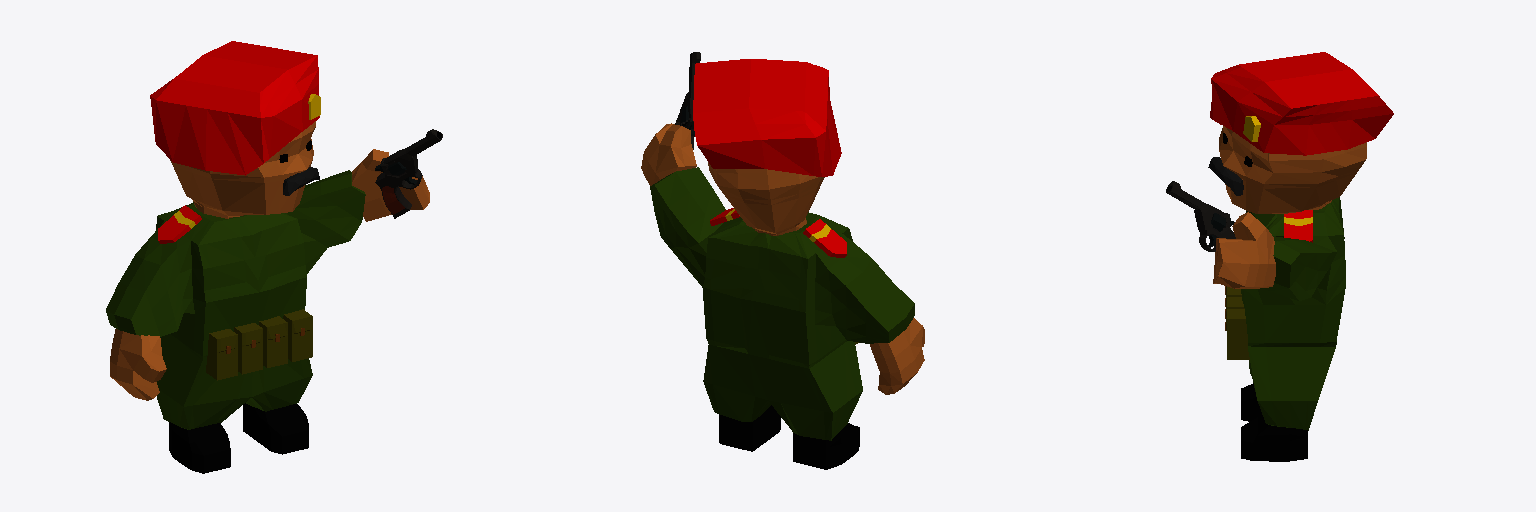
Rendered from terrorist3.obj.
3 views of the same model, side by side, from view 1: azimuth 30°, elevation 25°; view 2: azimuth 150°, elevation 25°; view 3: azimuth 270°, elevation 25° (orthographic).
Visible parts, largest first — view 1: Cube.021_Cube.042; view 2: Cube.021_Cube.042; view 3: Cube.021_Cube.042.
Boxes of the visible parts, <box> form: Cube.021_Cube.042: <box>106,41,442,473</box>; Cube.021_Cube.042: <box>641,52,924,469</box>; Cube.021_Cube.042: <box>1166,52,1393,461</box>.
Size of the model in its own units: 0.6523 by 0.8021 by 0.4473.